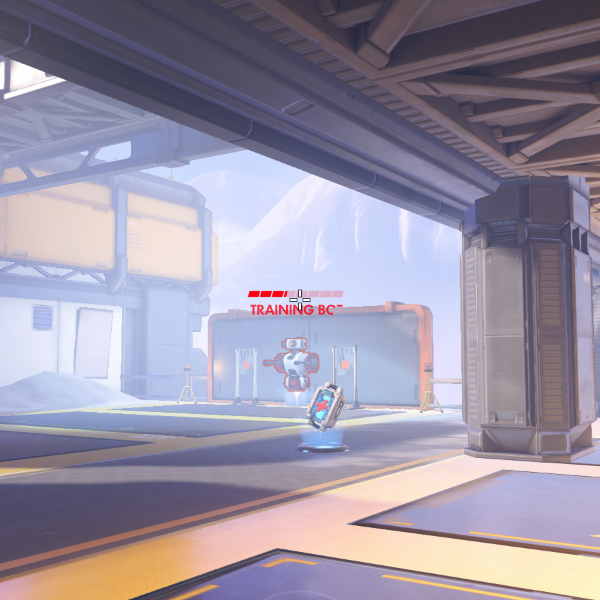hpbar: (248, 290, 344, 298)
